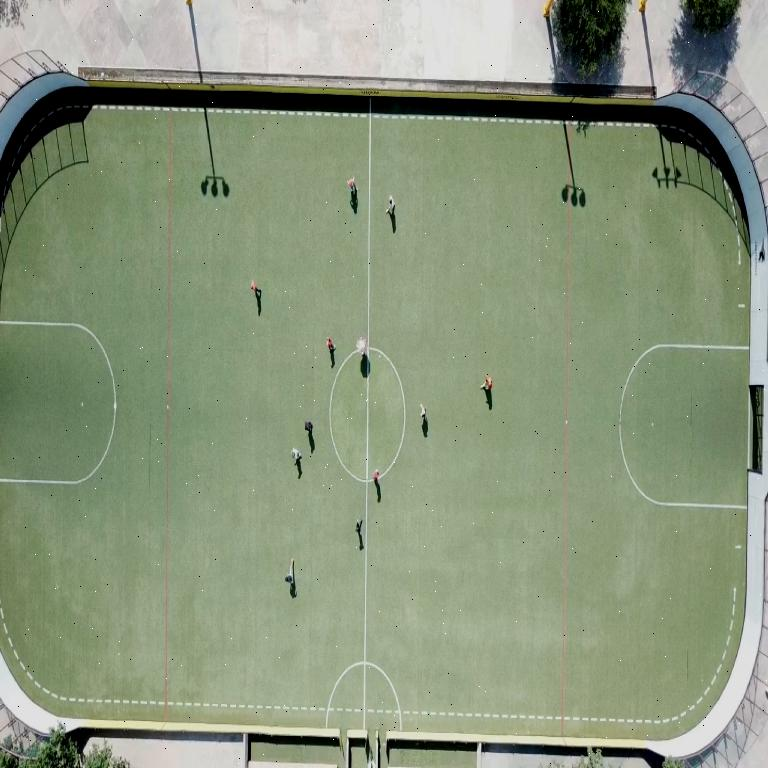AC: (619, 344, 749, 509), (0, 320, 116, 485)
B: (291, 558, 294, 564)
MC: (362, 371, 369, 729)
P: (285, 558, 295, 584), (386, 196, 395, 216), (357, 337, 367, 355), (348, 176, 356, 196), (482, 376, 492, 391), (291, 448, 301, 463), (251, 281, 260, 296), (327, 338, 335, 353), (305, 421, 313, 435), (420, 405, 426, 422), (356, 519, 362, 535), (375, 470, 379, 484)
